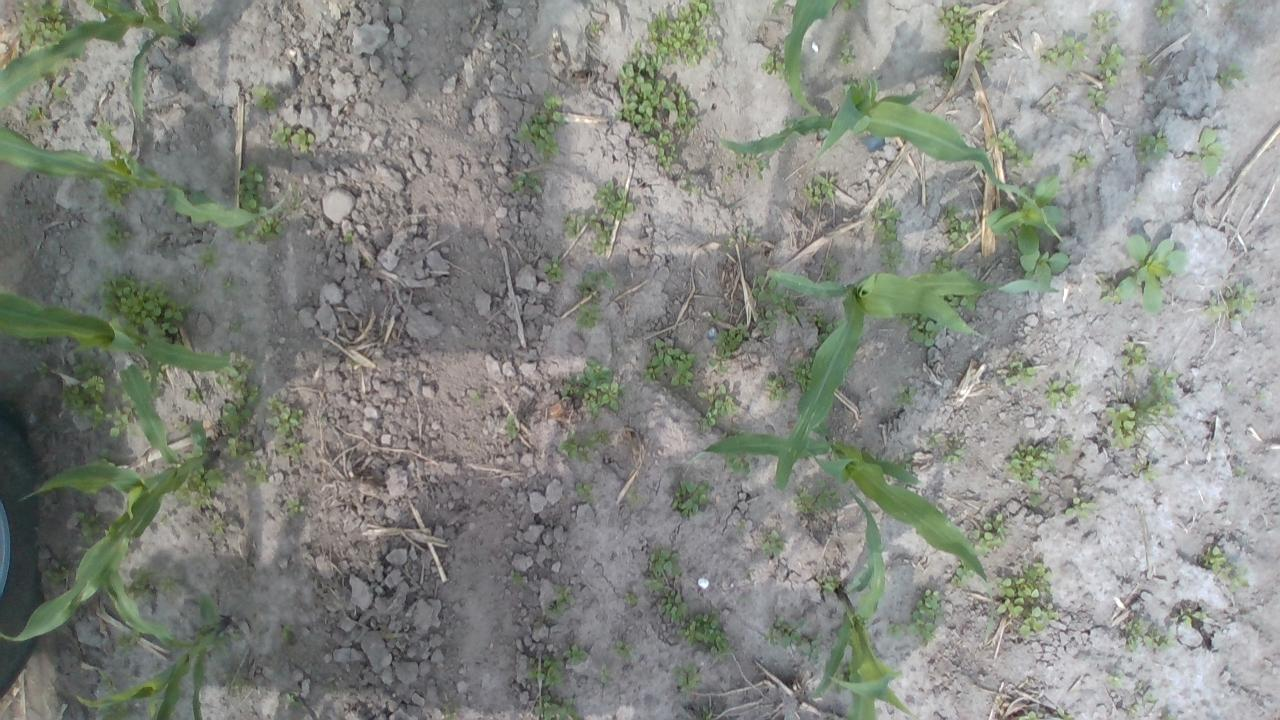Maize: (765, 268, 1060, 490), (2, 363, 220, 649), (719, 78, 1064, 241), (685, 406, 991, 582), (0, 120, 291, 230), (811, 490, 916, 720), (0, 0, 193, 124), (72, 592, 229, 720), (0, 291, 233, 373), (781, 0, 841, 118)
Weeds: (612, 40, 702, 176), (79, 270, 193, 346), (987, 172, 1062, 274), (1115, 232, 1185, 316), (647, 0, 720, 66), (558, 356, 627, 420), (61, 353, 112, 431), (990, 558, 1052, 618), (516, 93, 566, 160), (13, 0, 76, 49), (264, 393, 306, 464), (640, 337, 696, 387), (672, 608, 728, 657), (1136, 368, 1180, 426), (1198, 544, 1250, 592), (1005, 442, 1057, 489), (174, 462, 226, 509), (872, 195, 902, 275), (706, 322, 751, 374), (1019, 249, 1070, 292), (988, 128, 1035, 174), (936, 2, 978, 52), (1188, 126, 1226, 178), (966, 512, 1008, 559), (643, 544, 682, 594), (592, 178, 636, 222), (235, 163, 270, 218), (1205, 286, 1258, 322), (907, 588, 941, 644), (897, 312, 948, 348), (557, 428, 609, 463), (792, 478, 842, 514), (268, 122, 316, 158), (107, 384, 138, 439), (1040, 36, 1088, 70), (670, 478, 710, 518), (1094, 41, 1126, 88), (1104, 404, 1138, 448), (764, 614, 808, 648), (944, 206, 976, 252), (74, 510, 112, 546), (214, 352, 254, 386), (534, 693, 584, 720), (654, 588, 689, 626), (697, 383, 737, 416), (802, 174, 838, 210), (1132, 129, 1168, 164), (138, 358, 168, 400), (252, 204, 286, 241), (528, 655, 566, 688), (126, 564, 160, 600), (1018, 606, 1056, 638), (101, 214, 132, 252), (1044, 379, 1082, 408), (750, 274, 784, 306), (218, 402, 253, 433), (544, 584, 575, 618), (576, 269, 618, 294), (787, 356, 813, 393), (100, 178, 130, 210), (590, 213, 612, 256), (224, 432, 256, 461), (938, 292, 978, 315), (735, 153, 769, 180), (814, 309, 840, 344), (560, 212, 592, 240), (760, 50, 789, 80), (1124, 616, 1148, 652), (115, 628, 144, 657), (1005, 361, 1038, 386), (1215, 64, 1245, 91), (243, 458, 270, 488), (181, 13, 209, 41), (542, 253, 566, 285), (1120, 342, 1148, 369), (1069, 149, 1098, 175), (1154, 0, 1184, 25), (755, 307, 779, 338), (1143, 629, 1175, 652), (43, 559, 70, 586), (215, 630, 242, 657), (574, 302, 600, 330), (672, 661, 698, 689), (800, 632, 824, 662), (951, 559, 977, 586), (1130, 459, 1160, 482), (726, 452, 753, 477), (760, 528, 784, 556), (766, 373, 790, 401), (836, 30, 855, 65), (1064, 496, 1094, 518), (560, 643, 590, 665), (514, 172, 545, 193), (927, 253, 958, 274), (1090, 10, 1114, 37), (1176, 606, 1208, 626), (735, 226, 764, 247), (50, 78, 73, 104), (22, 102, 48, 125), (252, 86, 281, 106), (236, 383, 259, 408), (44, 56, 74, 75), (100, 701, 128, 720), (200, 246, 222, 270), (612, 638, 634, 662), (229, 226, 259, 243), (833, 666, 852, 692), (696, 411, 718, 433), (574, 480, 594, 504), (821, 258, 841, 282), (941, 56, 960, 81), (1086, 87, 1106, 109), (98, 669, 114, 695), (974, 46, 994, 66), (894, 385, 914, 405), (685, 176, 704, 197), (1100, 286, 1122, 304), (782, 299, 798, 323), (30, 361, 50, 380), (183, 387, 206, 403), (942, 447, 962, 465), (280, 622, 298, 642), (820, 574, 840, 592), (706, 309, 727, 326), (1138, 54, 1154, 76), (286, 497, 308, 513), (504, 414, 517, 441), (839, 78, 858, 96), (172, 420, 194, 435), (160, 576, 177, 594), (887, 622, 903, 640), (1106, 672, 1122, 690), (1054, 704, 1072, 720), (290, 188, 302, 212), (1056, 438, 1074, 453), (720, 427, 744, 438), (842, 0, 862, 13), (208, 518, 224, 534), (926, 431, 940, 449), (94, 448, 110, 463), (770, 0, 784, 17), (283, 690, 297, 706), (1016, 711, 1040, 720), (622, 592, 638, 605), (1140, 690, 1154, 704), (1028, 494, 1040, 509), (230, 320, 241, 335), (508, 574, 524, 584), (590, 22, 602, 34), (1236, 464, 1246, 478), (342, 230, 352, 244), (443, 711, 458, 720), (782, 116, 794, 127), (223, 279, 234, 290), (600, 668, 608, 683), (699, 712, 712, 720), (471, 391, 480, 401)
